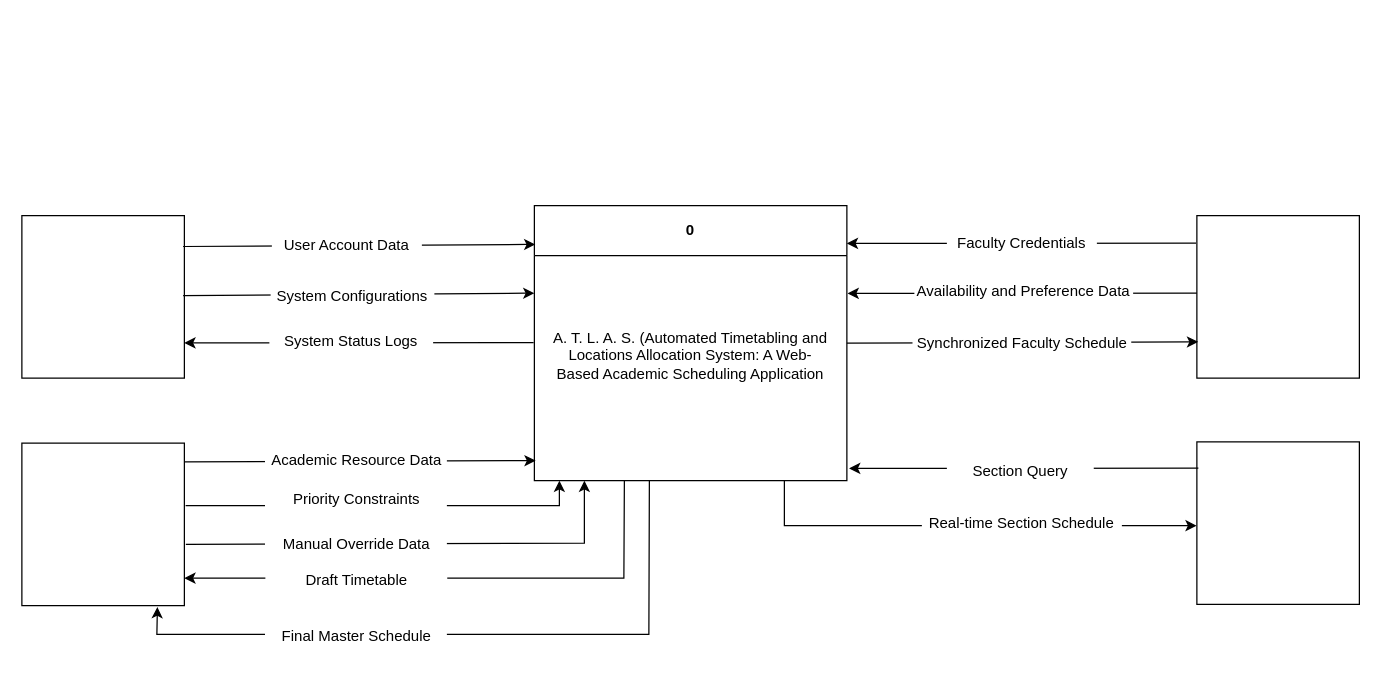
Image size: 1381x676. Some labels were removed from this diagram. Here are the shapes that lost their labels. From the top down, the box of each, then its label:
(21, 214, 184, 378): System Administrator
(1196, 214, 1359, 378): Teacher/ Faculty
(21, 442, 184, 606): Academic Scheduler
(1196, 441, 1359, 604): Student
